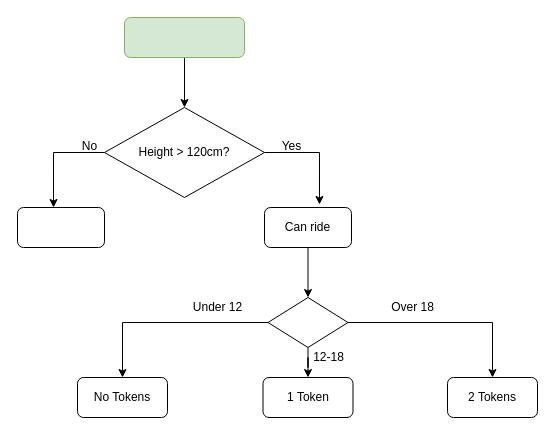
Some shapes in this 555 by 435 pixel diagram are drawn without their labels. Here are the shapes that lost their labels. From the top down, the centre of each, then its label:
At (x=184, y=37): "Start".
At (x=60, y=227): "Can't ride".
At (x=307, y=322): "age".
